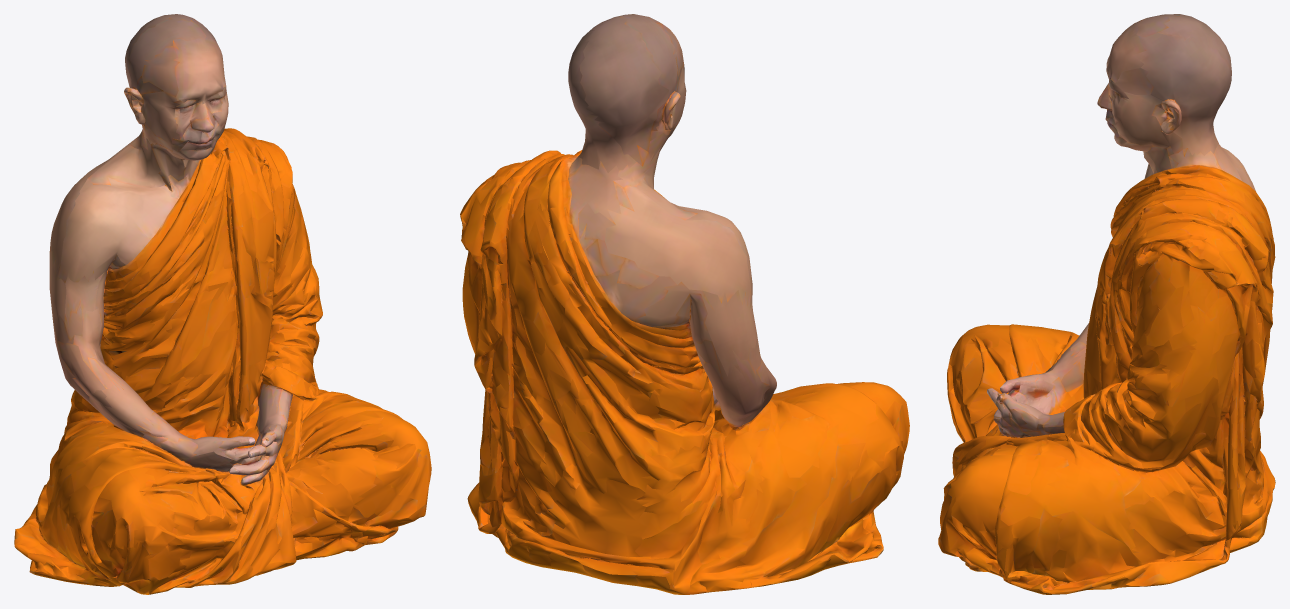
File: monk.glb
3 renders of one model, left to right at view 1: azimuth 30°, elevation 25°; view 2: azimuth 150°, elevation 25°; view 3: azimuth 270°, elevation 25°, orthographic. The views are drawn at different scales.
Parts seen in each view (by area): view 1: Mesh_0; view 2: Mesh_0; view 3: Mesh_0.
Part boxes in pixels (x1=…): Mesh_0: x1=14, y1=14, x2=431, y2=594; Mesh_0: x1=460, y1=14, x2=909, y2=594; Mesh_0: x1=938, y1=14, x2=1275, y2=594.
Size of the model in its own units: 0.7827 by 1 by 0.6191.
Materials: 1 (1 with a texture image).
